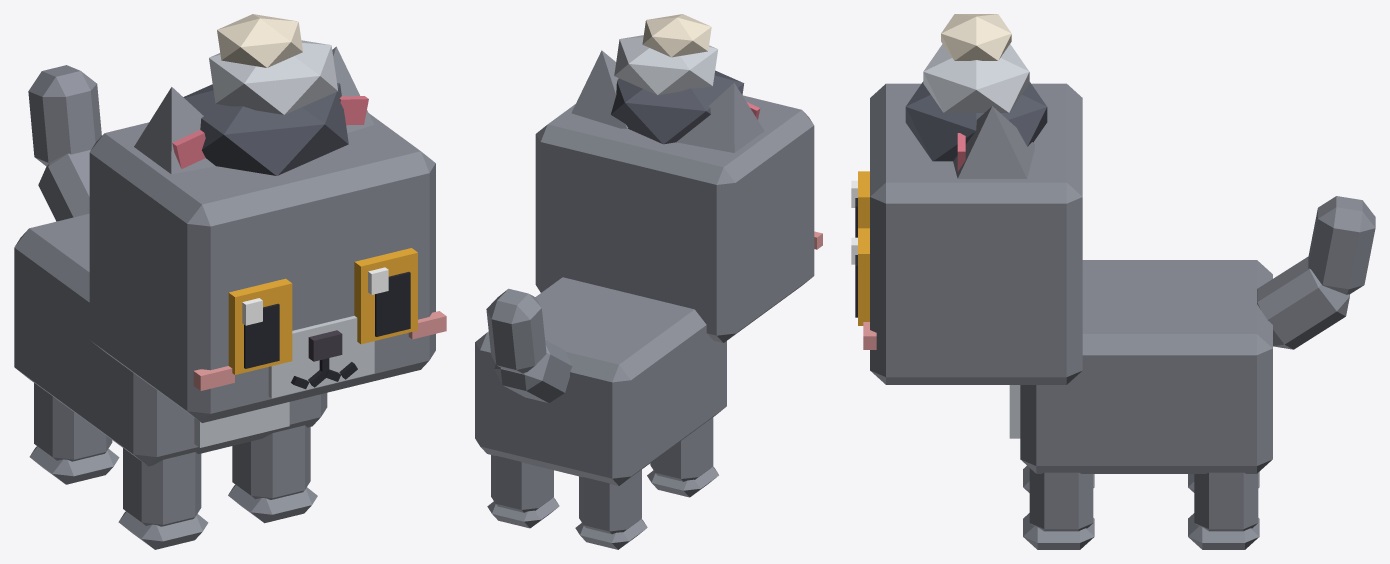
File: CatCafe_Cat_Pebble.glb
3 renders of one model, left to right at view 1: azimuth 30°, elevation 25°; view 2: azimuth 150°, elevation 25°; view 3: azimuth 270°, elevation 25°, orthographic. The views are drawn at different scales.
Parts seen in each view (by area): view 1: CatCafe_Cat_Pebble_Head, CatCafe_Cat_Pebble_Body, CatCafe_Cat_Pebble_Prop, CatCafe_Cat_Pebble_Tail, CatCafe_Cat_Pebble_LegF2, CatCafe_Cat_Pebble_LegF1, CatCafe_Cat_Pebble_Eye2, CatCafe_Cat_Pebble_Eye1, CatCafe_Cat_Pebble_LegB2, CatCafe_Cat_Pebble_EarR, CatCafe_Cat_Pebble_EarL; view 2: CatCafe_Cat_Pebble_Head, CatCafe_Cat_Pebble_Body, CatCafe_Cat_Pebble_Prop, CatCafe_Cat_Pebble_Tail, CatCafe_Cat_Pebble_LegB2, CatCafe_Cat_Pebble_LegB1, CatCafe_Cat_Pebble_LegF2, CatCafe_Cat_Pebble_EarR, CatCafe_Cat_Pebble_EarL; view 3: CatCafe_Cat_Pebble_Head, CatCafe_Cat_Pebble_Body, CatCafe_Cat_Pebble_Prop, CatCafe_Cat_Pebble_Tail, CatCafe_Cat_Pebble_LegF1, CatCafe_Cat_Pebble_LegB1, CatCafe_Cat_Pebble_EarL, CatCafe_Cat_Pebble_Eye1, CatCafe_Cat_Pebble_Eye2.
Boxes of the visible parts, bbox=[...] form: CatCafe_Cat_Pebble_Head: bbox=[89, 113, 446, 422]; CatCafe_Cat_Pebble_Body: bbox=[14, 213, 327, 466]; CatCafe_Cat_Pebble_Prop: bbox=[183, 14, 348, 175]; CatCafe_Cat_Pebble_Tail: bbox=[28, 65, 101, 221]; CatCafe_Cat_Pebble_LegF2: bbox=[118, 448, 208, 549]; CatCafe_Cat_Pebble_LegF1: bbox=[228, 425, 317, 523]; CatCafe_Cat_Pebble_Eye2: bbox=[228, 278, 292, 374]; CatCafe_Cat_Pebble_Eye1: bbox=[354, 248, 417, 344]; CatCafe_Cat_Pebble_LegB2: bbox=[29, 383, 119, 484]; CatCafe_Cat_Pebble_EarR: bbox=[134, 87, 215, 174]; CatCafe_Cat_Pebble_EarL: bbox=[332, 46, 373, 132]; CatCafe_Cat_Pebble_Head: bbox=[535, 95, 822, 342]; CatCafe_Cat_Pebble_Body: bbox=[475, 277, 726, 485]; CatCafe_Cat_Pebble_Prop: bbox=[611, 14, 744, 144]; CatCafe_Cat_Pebble_Tail: bbox=[486, 288, 572, 402]; CatCafe_Cat_Pebble_LegB2: bbox=[575, 469, 647, 549]; CatCafe_Cat_Pebble_LegB1: bbox=[487, 455, 559, 528]; CatCafe_Cat_Pebble_LegF2: bbox=[647, 417, 718, 497]; CatCafe_Cat_Pebble_EarR: bbox=[677, 83, 764, 152]; CatCafe_Cat_Pebble_EarL: bbox=[571, 50, 627, 128]; CatCafe_Cat_Pebble_Head: bbox=[863, 83, 1082, 384]; CatCafe_Cat_Pebble_Body: bbox=[1009, 260, 1272, 473]; CatCafe_Cat_Pebble_Prop: bbox=[905, 14, 1047, 161]; CatCafe_Cat_Pebble_Tail: bbox=[1257, 196, 1375, 349]; CatCafe_Cat_Pebble_LegF1: bbox=[1023, 468, 1094, 549]; CatCafe_Cat_Pebble_LegB1: bbox=[1188, 472, 1259, 549]; CatCafe_Cat_Pebble_EarL: bbox=[953, 106, 1034, 178]; CatCafe_Cat_Pebble_Eye1: bbox=[851, 228, 869, 325]; CatCafe_Cat_Pebble_Eye2: bbox=[851, 171, 869, 237].
Bounding box in the file's own units: 1 × 2.07 × 1.97.
1 material, 1 textured.
